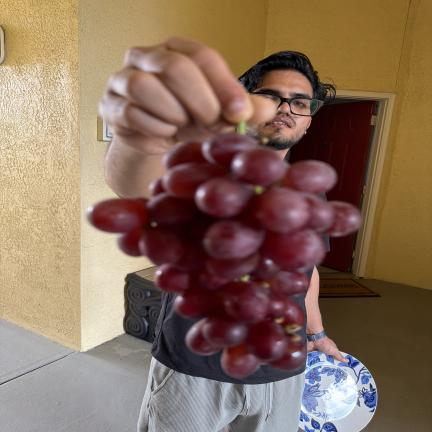grape_cluster: (87, 124, 361, 378)
